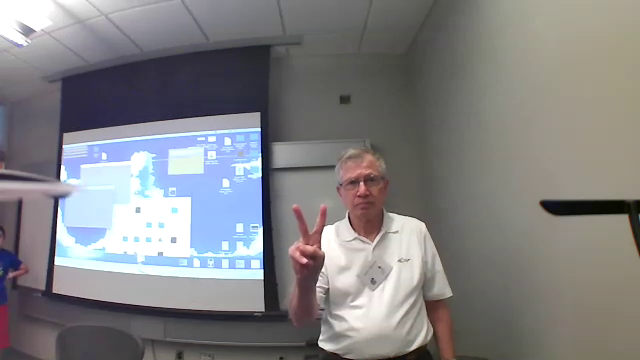peace: (280, 194, 334, 279)
